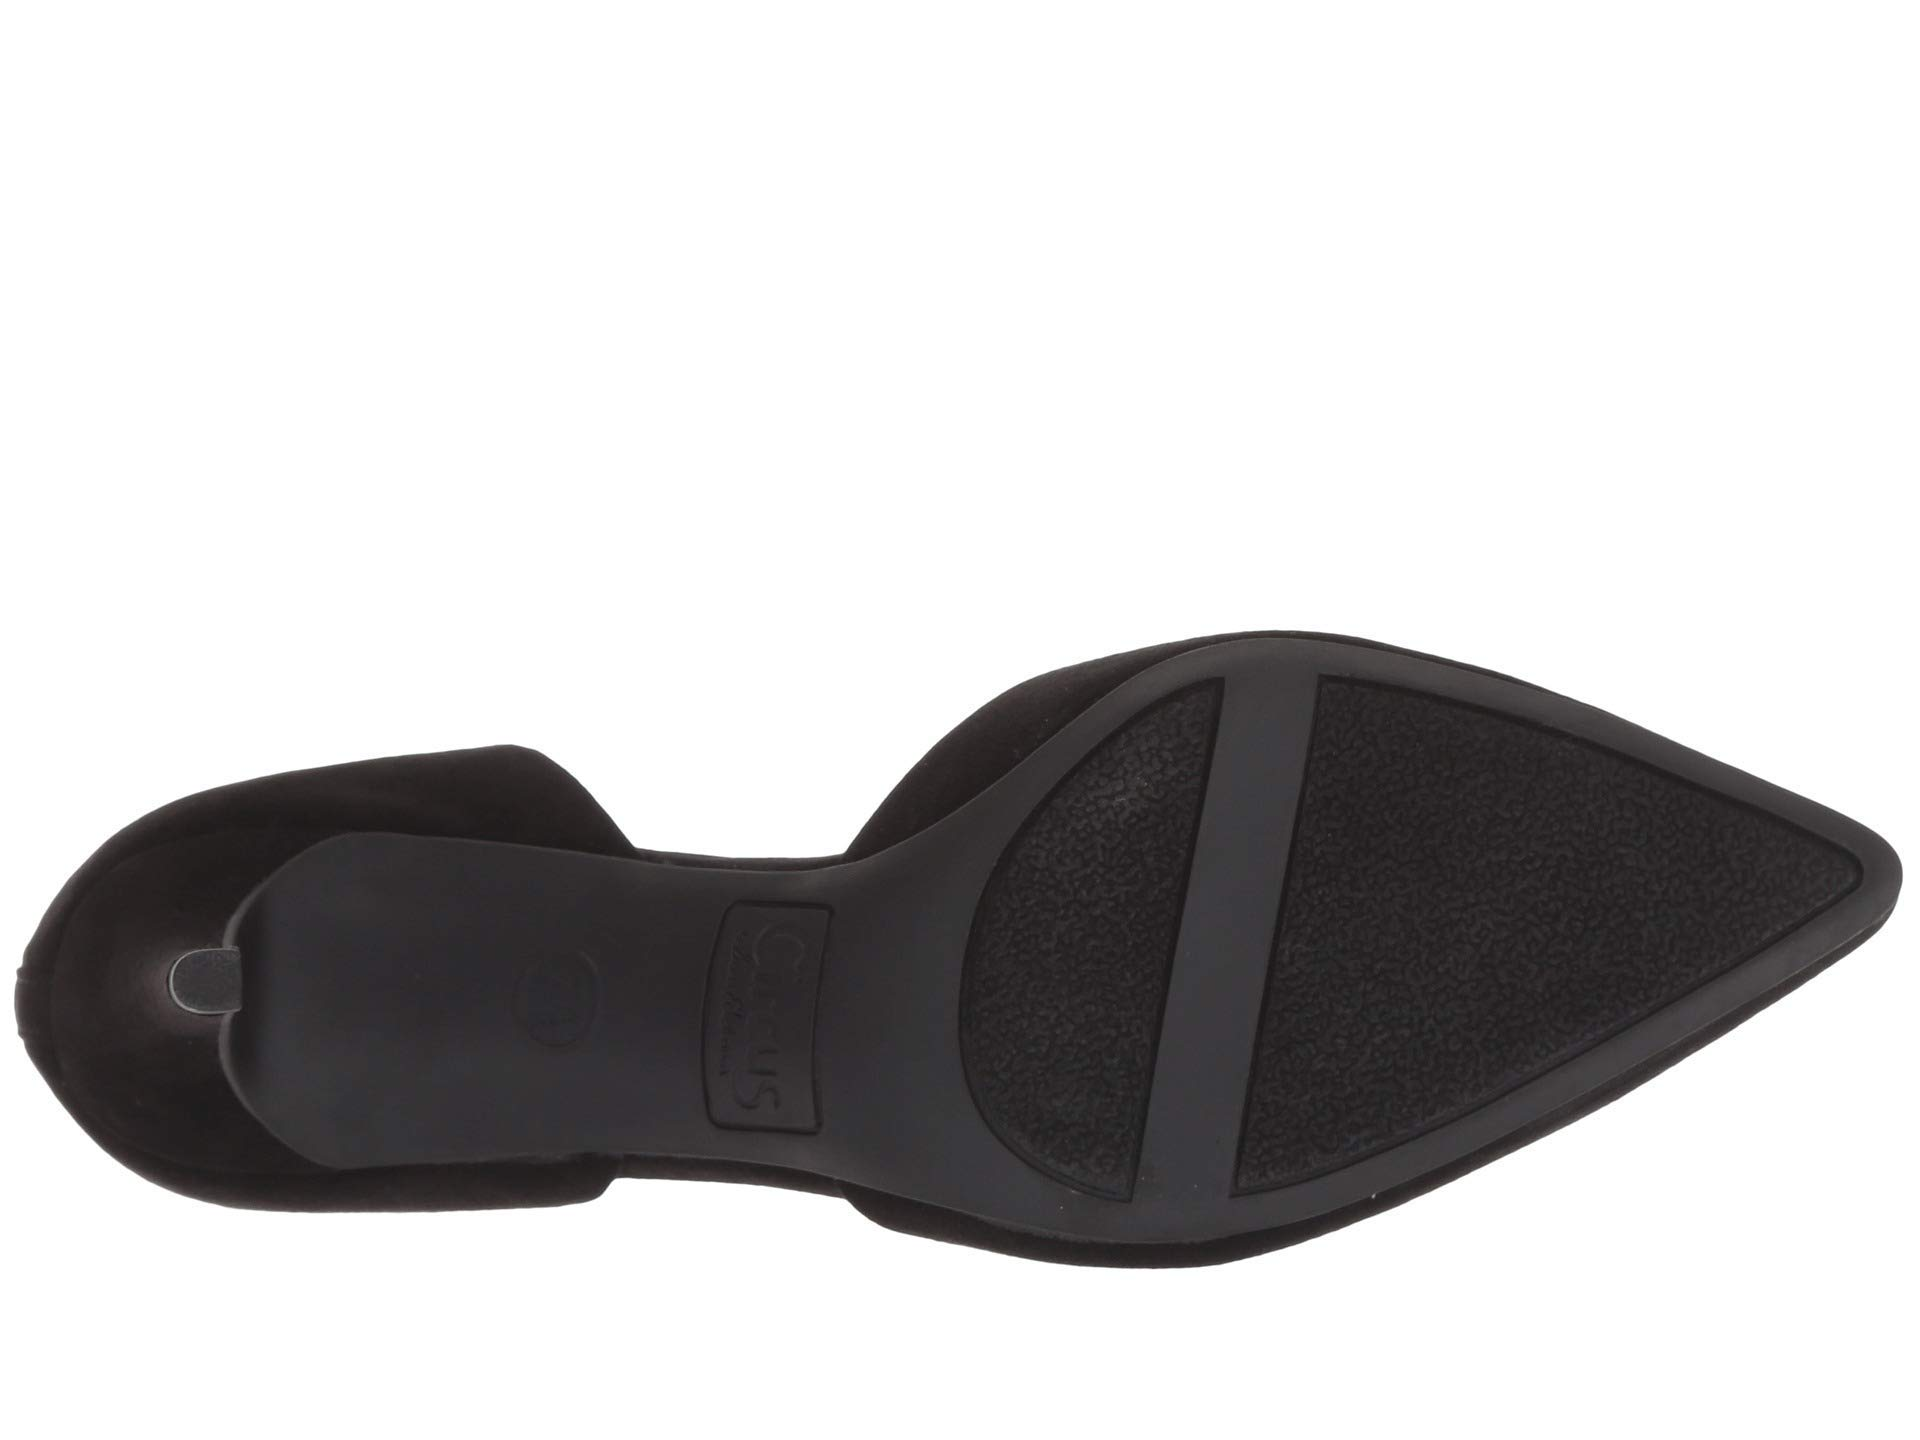exclude: (249, 750, 913, 1193)
other: (1033, 821, 1129, 1112)
